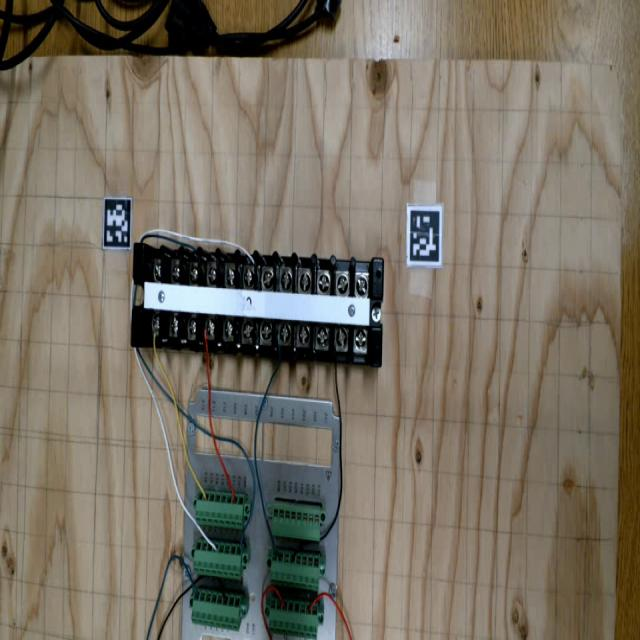Phillips_Block: (125, 238, 390, 367)
Terminal_2: (267, 548, 323, 592), (266, 597, 321, 639), (191, 538, 245, 580), (190, 588, 243, 630), (194, 489, 246, 529)
